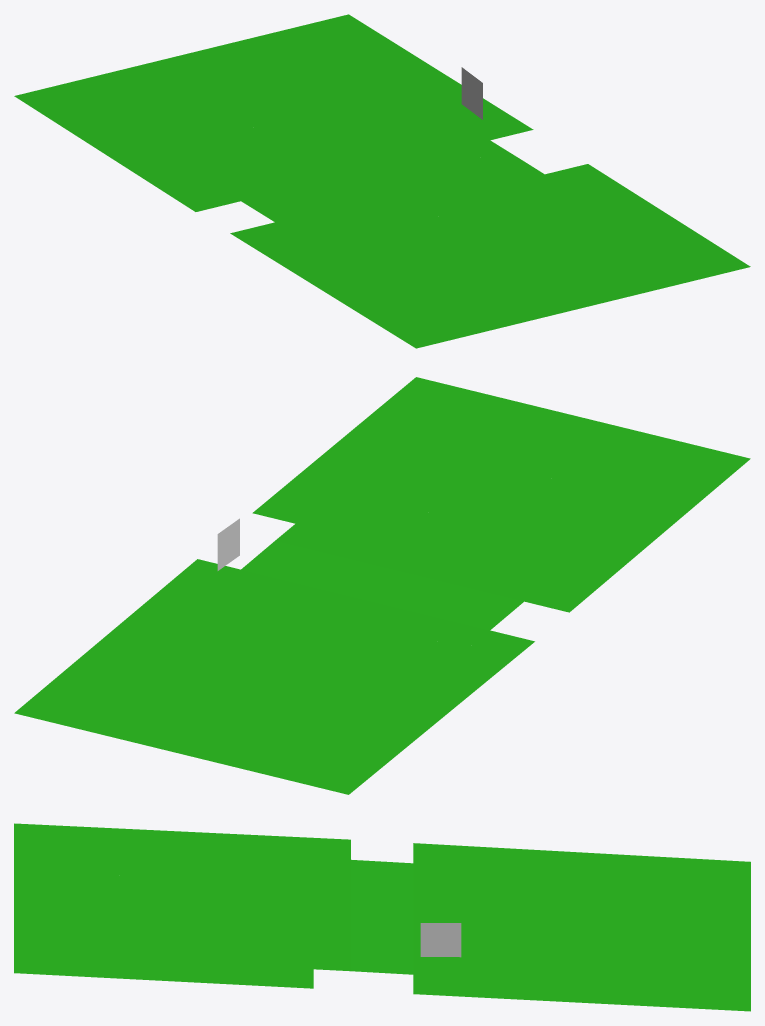
File: BlocMSOL.FBX
3 renders of one model, top to bottom at view 1: azimuth 30°, elevation 25°; view 2: azimuth 150°, elevation 25°; view 3: azimuth 270°, elevation 25°, orthographic. The views are drawn at different scales.
Visible parts, largest first — view 1: BlocMSOL394, BlocMSOL209, BlocMSOL383, BlocMSOL220, BlocMSOL231, BlocMSOL372, BlocMSOL361, BlocMSOL242, Object116, BlocMSOL253, BlocMSOL350, BlocMSOL264 (+167 smaller); view 2: BlocMSOL209, BlocMSOL220, BlocMSOL394, BlocMSOL383, BlocMSOL231, BlocMSOL372, BlocMSOL242, BlocMSOL361, BlocMSOL253, BlocMSOL264, BlocMSOL350, BlocMSOL339 (+168 smaller); view 3: Object116, BlocMSOL209, BlocMSOL350, BlocMSOL383, BlocMSOL394, BlocMSOL220, BlocMSOL372, BlocMSOL231, BlocMSOL361, BlocMSOL242, BlocMSOL360, BlocMSOL253 (+181 smaller).
Boxes of the visible parts, x1=… form: BlocMSOL394: x1=230, y1=222, x2=294, y2=245; BlocMSOL209: x1=176, y1=188, x2=240, y2=211; BlocMSOL383: x1=251, y1=235, x2=315, y2=258; BlocMSOL220: x1=155, y1=175, x2=219, y2=199; BlocMSOL231: x1=135, y1=162, x2=199, y2=186; BlocMSOL372: x1=272, y1=248, x2=335, y2=271; BlocMSOL361: x1=292, y1=261, x2=356, y2=284; BlocMSOL242: x1=115, y1=150, x2=178, y2=173; Object116: x1=461, y1=67, x2=482, y2=119; BlocMSOL253: x1=95, y1=137, x2=158, y2=160; BlocMSOL350: x1=313, y1=274, x2=376, y2=297; BlocMSOL264: x1=75, y1=124, x2=137, y2=147; BlocMSOL209: x1=470, y1=630, x2=534, y2=658; BlocMSOL220: x1=450, y1=647, x2=514, y2=675; BlocMSOL394: x1=525, y1=584, x2=589, y2=612; BlocMSOL383: x1=545, y1=567, x2=609, y2=595; BlocMSOL231: x1=429, y1=664, x2=493, y2=692; BlocMSOL372: x1=565, y1=550, x2=629, y2=578; BlocMSOL242: x1=408, y1=682, x2=472, y2=709; BlocMSOL361: x1=586, y1=533, x2=649, y2=561; BlocMSOL253: x1=388, y1=699, x2=451, y2=726; BlocMSOL264: x1=367, y1=716, x2=431, y2=743; BlocMSOL350: x1=606, y1=516, x2=669, y2=543; BlocMSOL339: x1=626, y1=499, x2=689, y2=526; Object116: x1=420, y1=923, x2=461, y2=957; BlocMSOL209: x1=413, y1=843, x2=450, y2=865; BlocMSOL350: x1=163, y1=830, x2=201, y2=851; BlocMSOL383: x1=276, y1=836, x2=313, y2=857; BlocMSOL394: x1=313, y1=838, x2=350, y2=859; BlocMSOL220: x1=451, y1=845, x2=488, y2=867; BlocMSOL372: x1=238, y1=834, x2=275, y2=855; BlocMSOL231: x1=488, y1=847, x2=525, y2=869; BlocMSOL361: x1=201, y1=832, x2=238, y2=853; BlocMSOL242: x1=526, y1=849, x2=563, y2=870; BlocMSOL360: x1=163, y1=961, x2=201, y2=982; BlocMSOL253: x1=563, y1=851, x2=600, y2=872.
Size of the model in its own units: 3802 by 800 by 7840.
